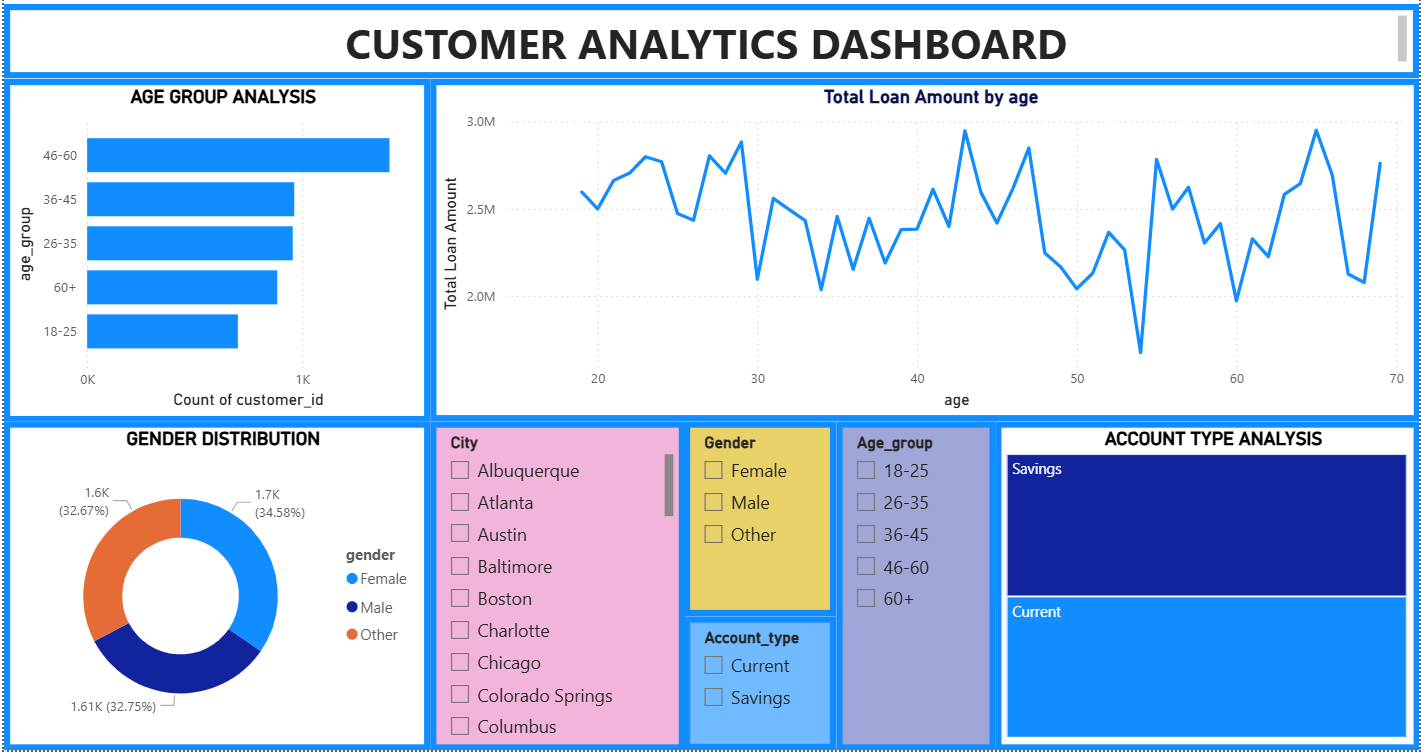

The dashboard page shown, as its layout file describes it:
{"tool":"powerbi","page":{"name":"CUSTOMER ANALYTICS","canvas":[1280,720],"ordinal":1},"visuals":[{"type":"barChart","title":"AGE GROUP ANALYSIS","fields":{"Category":["cleaned_banking_data.age_group"],"Y":["CountNonNull(cleaned_banking_data.customer_id)"]},"box":[0,112.5,385.6,310.1],"z":0},{"type":"donutChart","title":"GENDER DISTRIBUTION","fields":{"Y":["CountNonNull(cleaned_banking_data.customer_id)"],"Category":["cleaned_banking_data.gender"]},"box":[0,422.6,385.6,297.8],"z":1000},{"type":"textbox","box":[0,45.3,1280.3,67.2],"z":2000},{"type":"treemap","title":"ACCOUNT TYPE ANALYSIS","fields":{"Group":["cleaned_banking_data.account_type"],"Values":["CountNonNull(cleaned_banking_data.customer_id)"]},"box":[896.6,422.7,383.7,297.5],"z":3000},{"type":"slicer","fields":{"Values":["cleaned_banking_data.city"]},"box":[385.6,422.6,230.5,297.8],"z":4000},{"type":"slicer","fields":{"Values":["cleaned_banking_data.gender"]},"box":[615.2,422.7,137.3,176.4],"z":5000},{"type":"slicer","fields":{"Values":["cleaned_banking_data.account_type"]},"box":[615.2,599.1,137.3,121.2],"z":6000},{"type":"slicer","fields":{"Values":["cleaned_banking_data.age_group"]},"box":[752.5,422.7,144,297.5],"z":7000},{"type":"lineChart","fields":{"Category":["cleaned_banking_data.age"],"Y":["cleaned_banking_data.Total Loan Amount"]},"box":[385,113.1,895.2,309.6],"z":8000}]}

Visuals, with their boxes on the page's 1280x720 design canvas (x1, y1, x2, y2). These are canvas units, not pixel positions in the 1428x755 screenshot, which may show the page scaled, cropped or inside an application window:
"AGE GROUP ANALYSIS" barChart: [0, 112, 386, 423]
"GENDER DISTRIBUTION" donutChart: [0, 423, 386, 720]
textbox: [0, 45, 1280, 112]
"ACCOUNT TYPE ANALYSIS" treemap: [897, 423, 1280, 720]
slicer - cleaned_banking_data.city: [386, 423, 616, 720]
slicer - cleaned_banking_data.gender: [615, 423, 752, 599]
slicer - cleaned_banking_data.account_type: [615, 599, 752, 720]
slicer - cleaned_banking_data.age_group: [752, 423, 896, 720]
lineChart - cleaned_banking_data.age x cleaned_banking_data.Total Loan Amount: [385, 113, 1280, 423]
